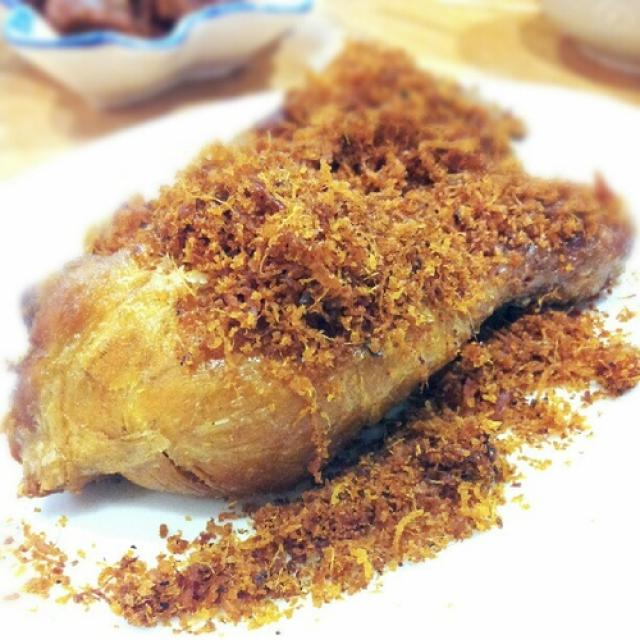鸡肉料理 含炸鸡: (18, 44, 612, 610)
